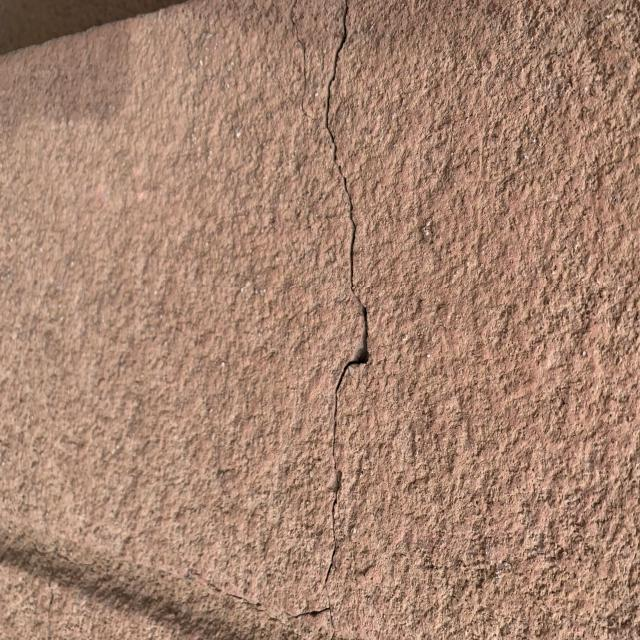horizontal crack: (187, 564, 331, 634)
vertical crack: (292, 0, 416, 640)
